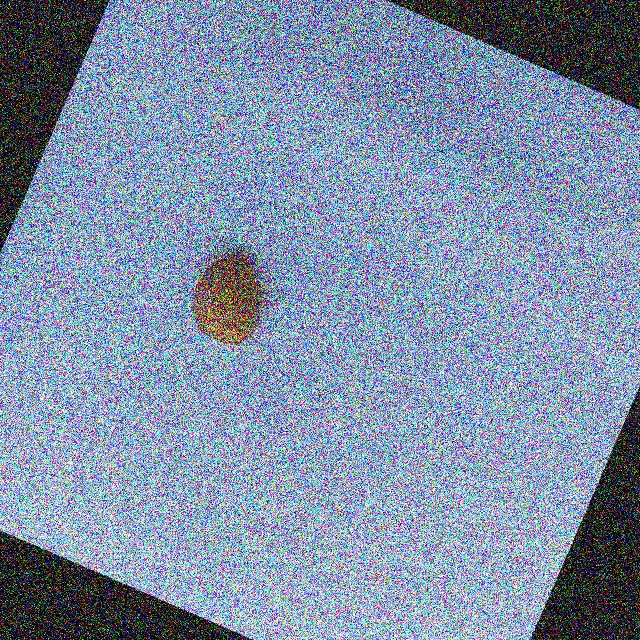grade2: (176, 238, 288, 358)
